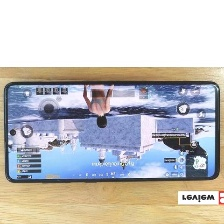phone: (1, 75, 223, 185)
